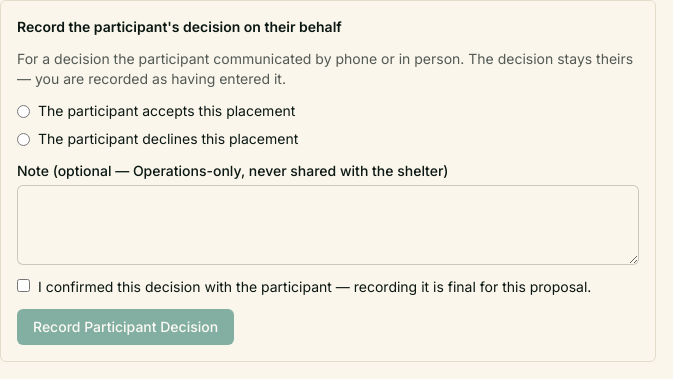
Test: AssistedDecisionPanel (Story 4.5, AC3) › keeps recording disabled until a decision is chosen AND confirmed
Expected: the button "Record Participant Decision" is disabled, [17,309,234,345]
Click the radio button labelled "The participant accepts this placement" at (24, 111), box [17,104,30,118]
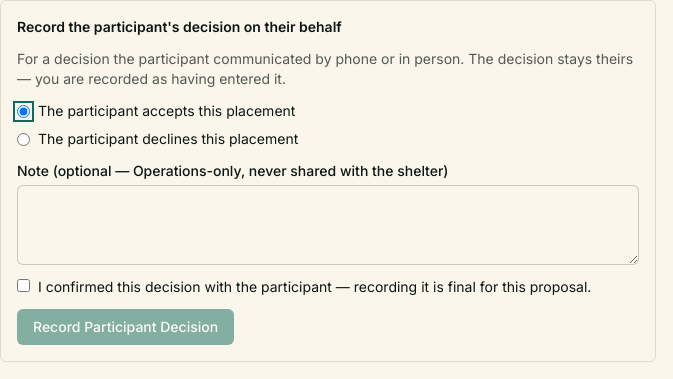
Expected: the button "Record Participant Decision" is disabled, [17,309,234,345]
Click the checkbox labelled "I confirmed this decision with the participant" at (24, 286), box [17,279,30,292]
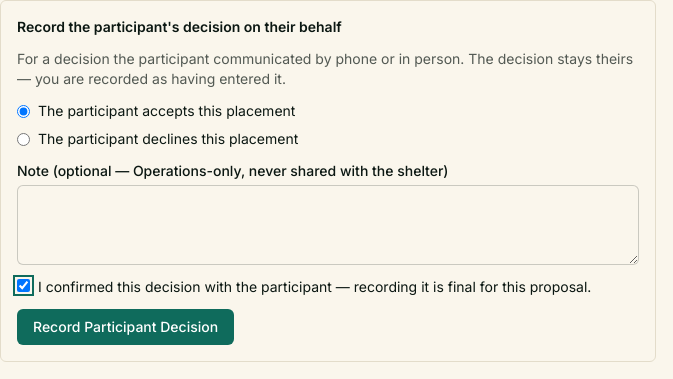
Expected: the button "Record Participant Decision" is enabled, [17,309,234,345]
